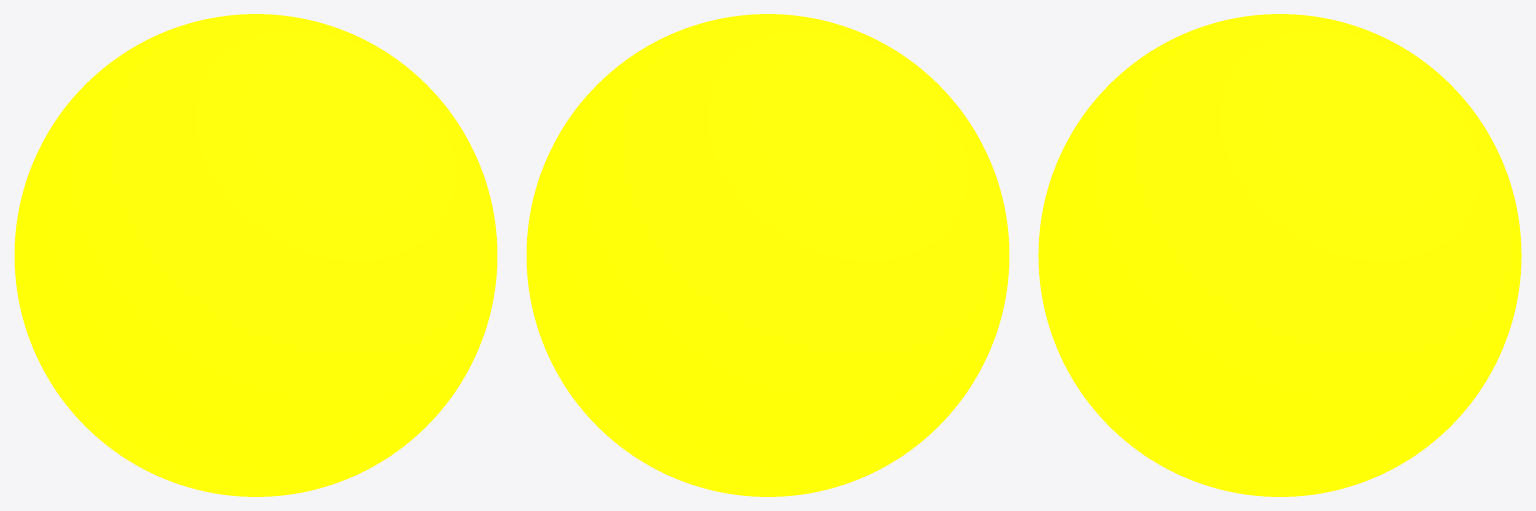
The model's file is sun.gltf.
3 views of the same model, side by side, from view 1: azimuth 30°, elevation 25°; view 2: azimuth 150°, elevation 25°; view 3: azimuth 270°, elevation 25° (orthographic).
Visible parts, largest first — view 1: Icosphere; view 2: Icosphere; view 3: Icosphere.
Part boxes in pixels (x1,y1,x2,y2): Icosphere: [14, 14, 497, 496]; Icosphere: [526, 14, 1009, 496]; Icosphere: [1038, 14, 1521, 496].
Size of what is drawn, in the model's own units: 34.28 by 34.28 by 34.28.
